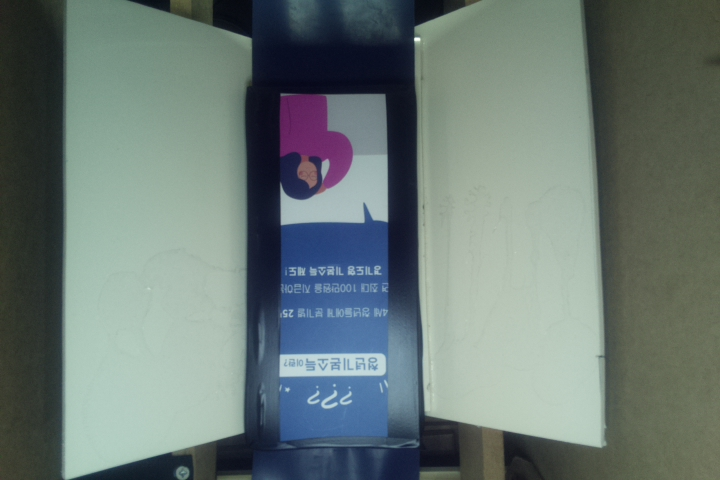book: (251, 79, 414, 452)
